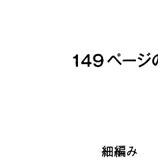enseble_chain: (118, 49, 152, 70), (135, 48, 158, 72), (89, 52, 106, 70), (80, 53, 96, 68), (99, 144, 116, 158), (110, 144, 126, 158), (124, 145, 137, 158), (72, 53, 81, 68)
